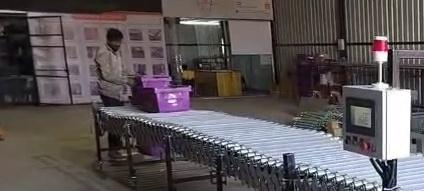box: (133, 86, 190, 112)
